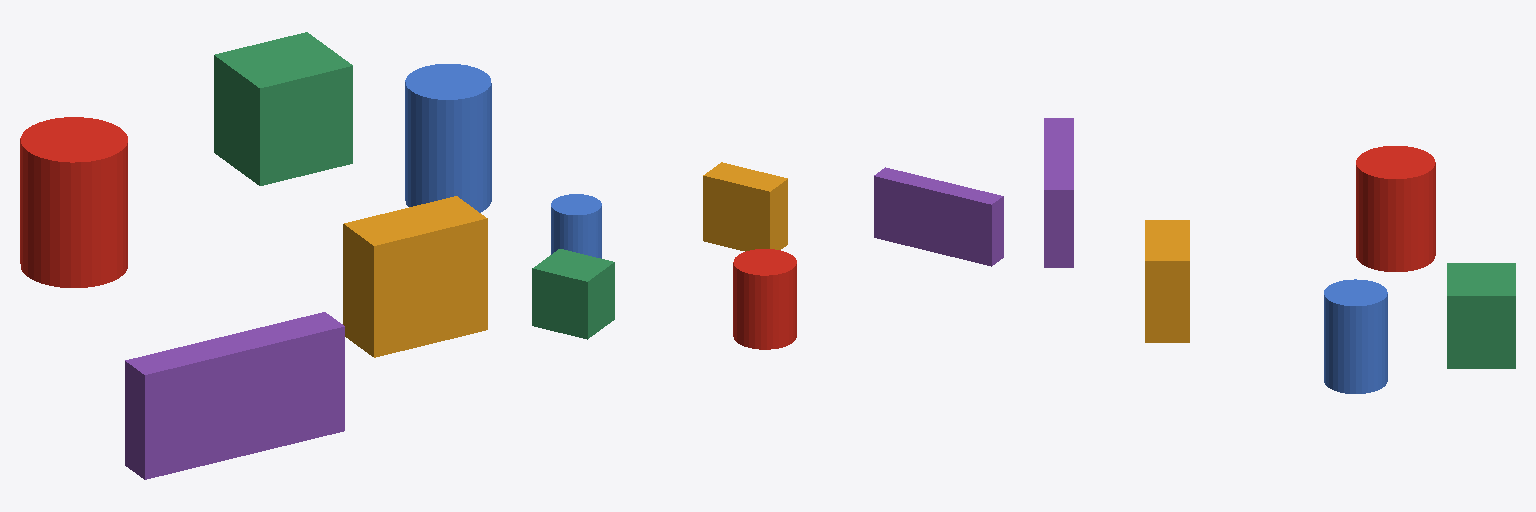
robot.urdf — three_dof_robot_obstacle_scene:
<?xml version='1.0' encoding='utf-8'?>
<robot name="three_dof_robot_obstacle_scene">
  <link name="world" />
  <material name="obs_01_elbow_cylinder_mat">
    <color rgba="0.900 0.240 0.180 1.000" />
  </material>
  <material name="obs_02_front_box_mat">
    <color rgba="0.950 0.670 0.180 1.000" />
  </material>
  <material name="obs_03_outer_cylinder_mat">
    <color rgba="0.360 0.560 0.900 1.000" />
  </material>
  <material name="obs_04_left_wall_mat">
    <color rgba="0.620 0.400 0.780 1.000" />
  </material>
  <material name="obs_05_tool_goal_block_mat">
    <color rgba="0.300 0.660 0.440 1.000" />
  </material>
  <link name="obs_01_elbow_cylinder">
    <visual>
      <origin xyz="0 0 0" rpy="0 0 0" />
      <geometry>
        <cylinder radius="0.035000" length="0.090000" />
      </geometry>
      <material name="obs_01_elbow_cylinder_mat" />
    </visual>
    <collision>
      <origin xyz="0 0 0" rpy="0 0 0" />
      <geometry>
        <cylinder radius="0.035000" length="0.090000" />
      </geometry>
    </collision>
  </link>
  <joint name="obs_01_elbow_cylinder_fixed" type="fixed">
    <origin xyz="0.220000 0.110000 0.045000" rpy="0 0 0" />
    <parent link="world" />
    <child link="obs_01_elbow_cylinder" />
  </joint>
  <link name="obs_02_front_box">
    <visual>
      <origin xyz="0 0 0" rpy="0 0 0" />
      <geometry>
        <box size="0.085000 0.040000 0.080000" />
      </geometry>
      <material name="obs_02_front_box_mat" />
    </visual>
    <collision>
      <origin xyz="0 0 0" rpy="0 0 0" />
      <geometry>
        <box size="0.085000 0.040000 0.080000" />
      </geometry>
    </collision>
  </link>
  <joint name="obs_02_front_box_fixed" type="fixed">
    <origin xyz="0.360000 -0.090000 0.040000" rpy="0 0 0" />
    <parent link="world" />
    <child link="obs_02_front_box" />
  </joint>
  <link name="obs_03_outer_cylinder">
    <visual>
      <origin xyz="0 0 0" rpy="0 0 0" />
      <geometry>
        <cylinder radius="0.028000" length="0.085000" />
      </geometry>
      <material name="obs_03_outer_cylinder_mat" />
    </visual>
    <collision>
      <origin xyz="0 0 0" rpy="0 0 0" />
      <geometry>
        <cylinder radius="0.028000" length="0.085000" />
      </geometry>
    </collision>
  </link>
  <joint name="obs_03_outer_cylinder_fixed" type="fixed">
    <origin xyz="0.480000 0.075000 0.042500" rpy="0 0 0" />
    <parent link="world" />
    <child link="obs_03_outer_cylinder" />
  </joint>
  <link name="obs_04_left_wall">
    <visual>
      <origin xyz="0 0 0" rpy="0 0 0" />
      <geometry>
        <box size="0.150000 0.026000 0.075000" />
      </geometry>
      <material name="obs_04_left_wall_mat" />
    </visual>
    <collision>
      <origin xyz="0 0 0" rpy="0 0 0" />
      <geometry>
        <box size="0.150000 0.026000 0.075000" />
      </geometry>
    </collision>
  </link>
  <joint name="obs_04_left_wall_fixed" type="fixed">
    <origin xyz="0.170000 -0.185000 0.037500" rpy="0 0 0" />
    <parent link="world" />
    <child link="obs_04_left_wall" />
  </joint>
  <link name="obs_05_tool_goal_block">
    <visual>
      <origin xyz="0 0 0" rpy="0 0 0" />
      <geometry>
        <box size="0.070000 0.060000 0.070000" />
      </geometry>
      <material name="obs_05_tool_goal_block_mat" />
    </visual>
    <collision>
      <origin xyz="0 0 0" rpy="0 0 0" />
      <geometry>
        <box size="0.070000 0.060000 0.070000" />
      </geometry>
    </collision>
  </link>
  <joint name="obs_05_tool_goal_block_fixed" type="fixed">
    <origin xyz="0.420000 0.185000 0.035000" rpy="0 0 0" />
    <parent link="world" />
    <child link="obs_05_tool_goal_block" />
  </joint>
</robot>

--- Render facts (derived) ---
Views: 3 orthographic renders of the robot side by side, from view 1: azimuth 30°, elevation 25°; view 2: azimuth 150°, elevation 25°; view 3: azimuth 270°, elevation 25°.
Robot: three_dof_robot_obstacle_scene — 6 links, 5 joints (5 fixed); root link world; default pose: every joint at zero.
Links seen in each view (by area): view 1: obs_04_left_wall, obs_02_front_box, obs_05_tool_goal_block, obs_01_elbow_cylinder, obs_03_outer_cylinder; view 2: obs_04_left_wall, obs_02_front_box, obs_05_tool_goal_block, obs_01_elbow_cylinder, obs_03_outer_cylinder; view 3: obs_01_elbow_cylinder, obs_05_tool_goal_block, obs_03_outer_cylinder, obs_02_front_box, obs_04_left_wall.
Link boxes in pixels (box(x1,y1,x2,y2)): obs_04_left_wall: box(125, 312, 344, 479); obs_02_front_box: box(343, 196, 487, 357); obs_05_tool_goal_block: box(214, 32, 352, 185); obs_01_elbow_cylinder: box(20, 117, 127, 287); obs_03_outer_cylinder: box(405, 64, 491, 212); obs_04_left_wall: box(874, 167, 1003, 266); obs_02_front_box: box(703, 162, 787, 251); obs_05_tool_goal_block: box(532, 249, 614, 339); obs_01_elbow_cylinder: box(733, 249, 796, 349); obs_03_outer_cylinder: box(551, 194, 601, 258); obs_01_elbow_cylinder: box(1356, 146, 1435, 271); obs_05_tool_goal_block: box(1447, 263, 1515, 368); obs_03_outer_cylinder: box(1324, 279, 1387, 393); obs_02_front_box: box(1145, 220, 1189, 342); obs_04_left_wall: box(1044, 118, 1073, 267).
Size in the robot's own frame: 0.413 by 0.413 by 0.09 metres.
Geometry: primitives only (box / cylinder / sphere), no mesh files.
